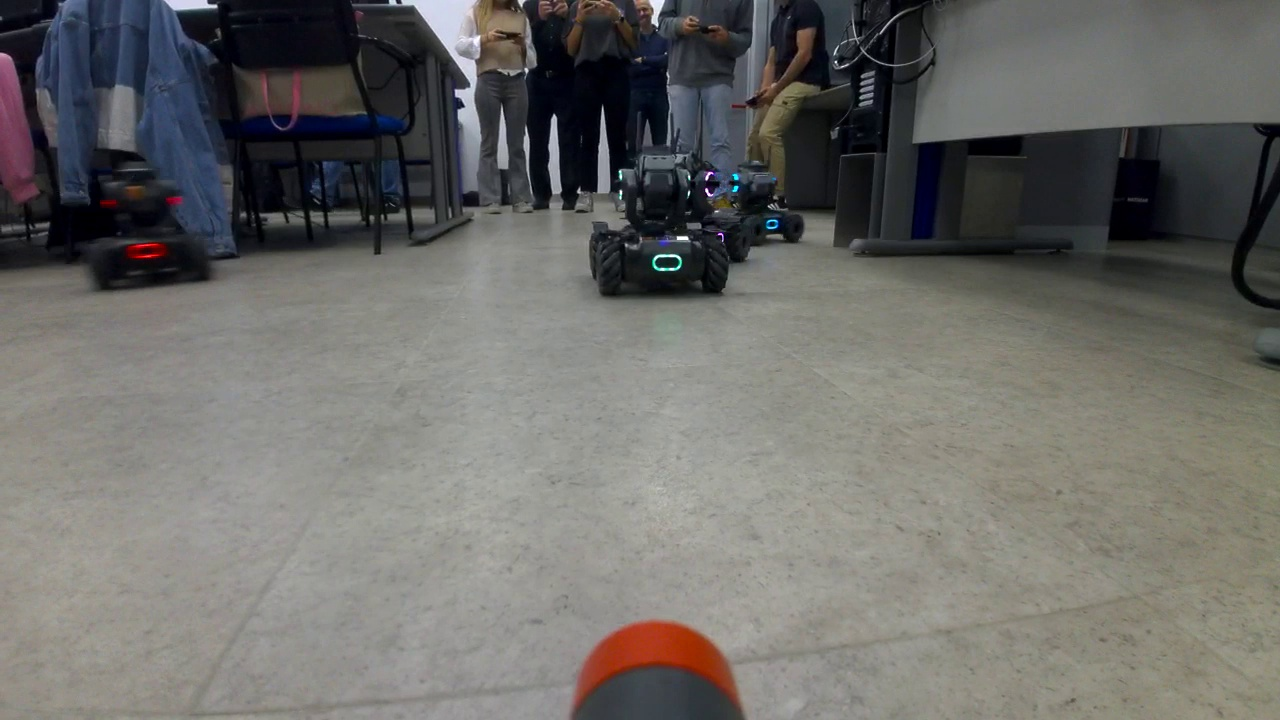robot: (587, 143, 729, 299), (84, 160, 210, 297), (684, 153, 752, 258), (726, 162, 806, 246)
